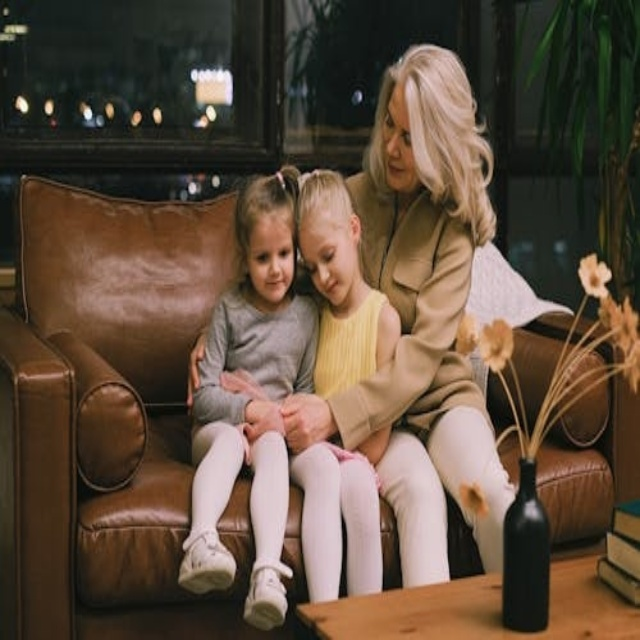Sin_gafas: (380, 98, 420, 152), (302, 231, 343, 275), (252, 229, 296, 267)
Sin_guantes: (174, 321, 210, 411), (280, 392, 331, 453), (245, 397, 288, 445)
Sin_mascara: (380, 156, 413, 186), (315, 275, 344, 304), (257, 273, 288, 296)
